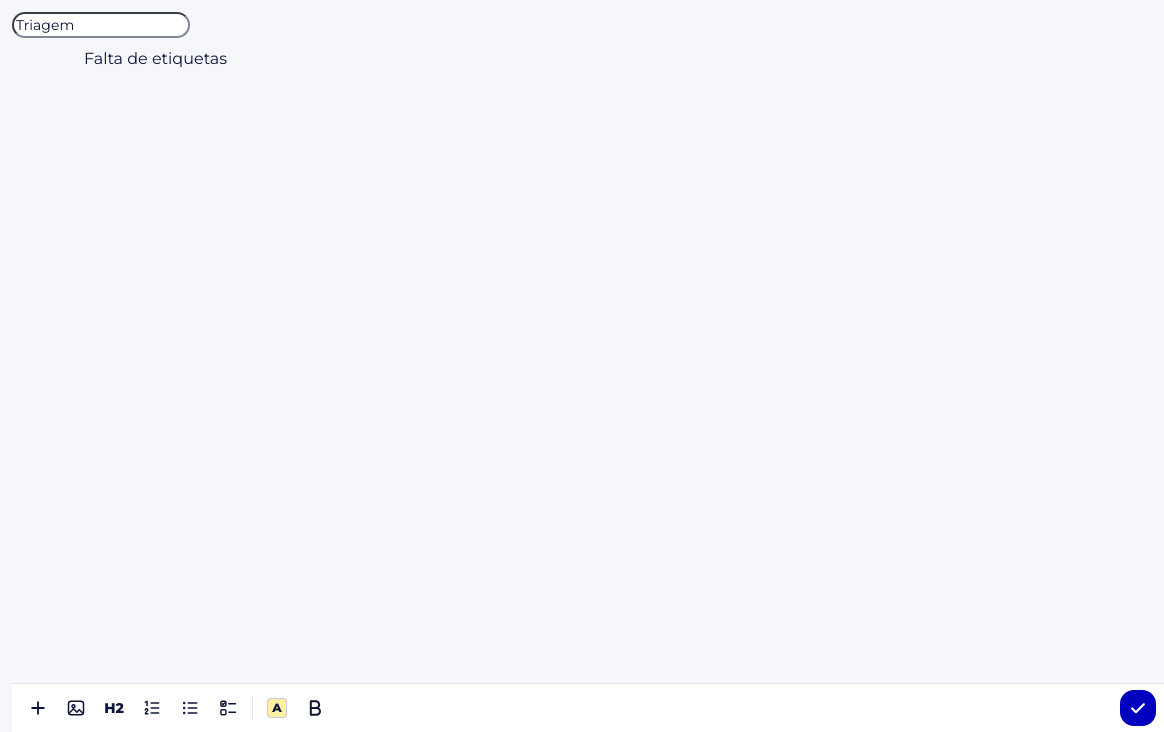
Scenario: Inserir bloco num parágrafo com texto abre o menu numa linha nova abaixo — a linha escrita fica como está
Step 1. Click the button named "Inserir bloco" → [38, 708], box [20,690,56,726]
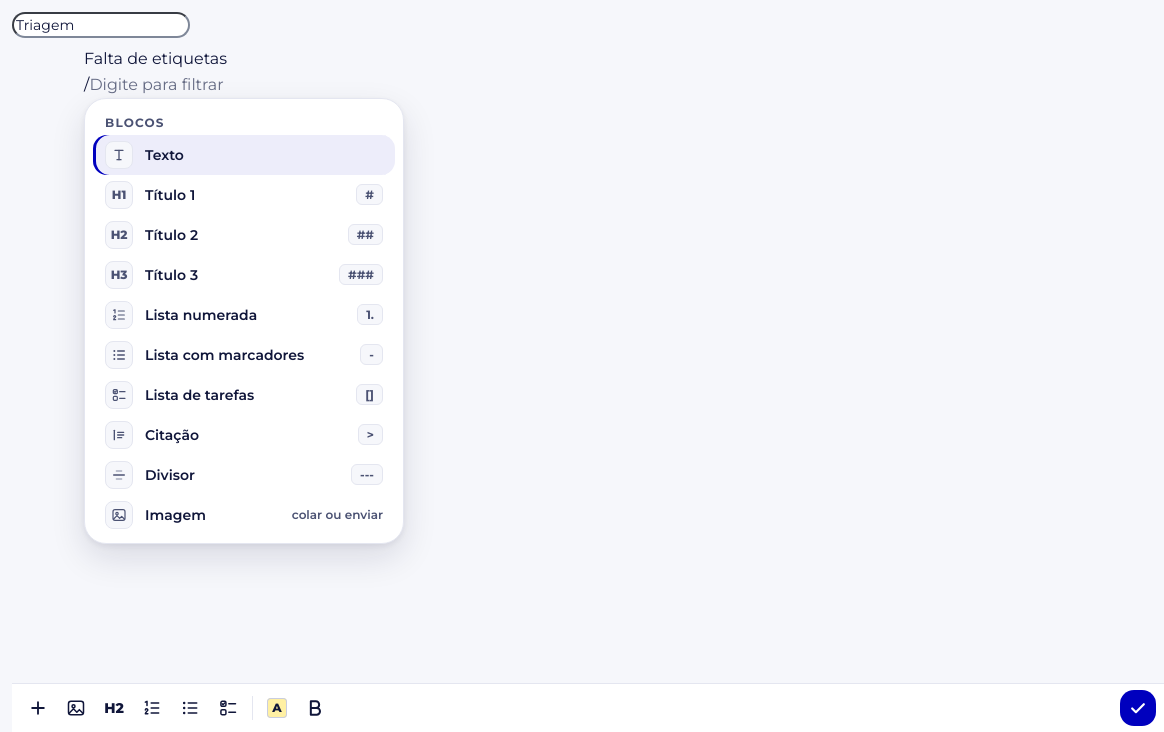
Now the list is shown, box [93,135,395,535]
